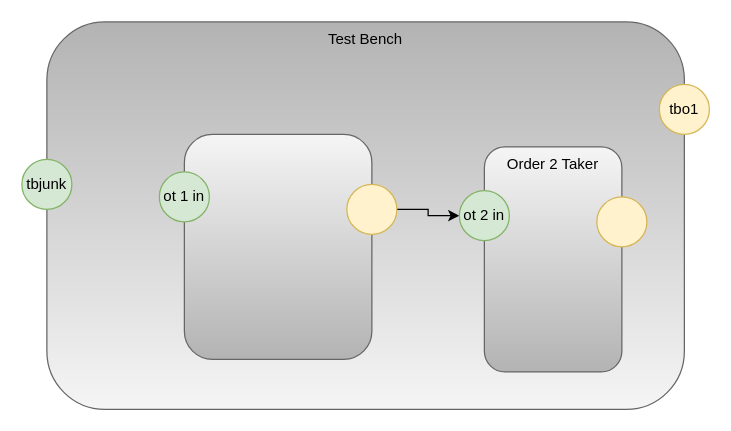
This 731x431 diagram has some shape labels left out. The box of each missing label's shape, as (x1, y1, x2, y2) in pixels:
Order Taker: (183, 133, 372, 359)
ot 1 out: (346, 183, 397, 234)
ot 2 out: (596, 196, 647, 247)
